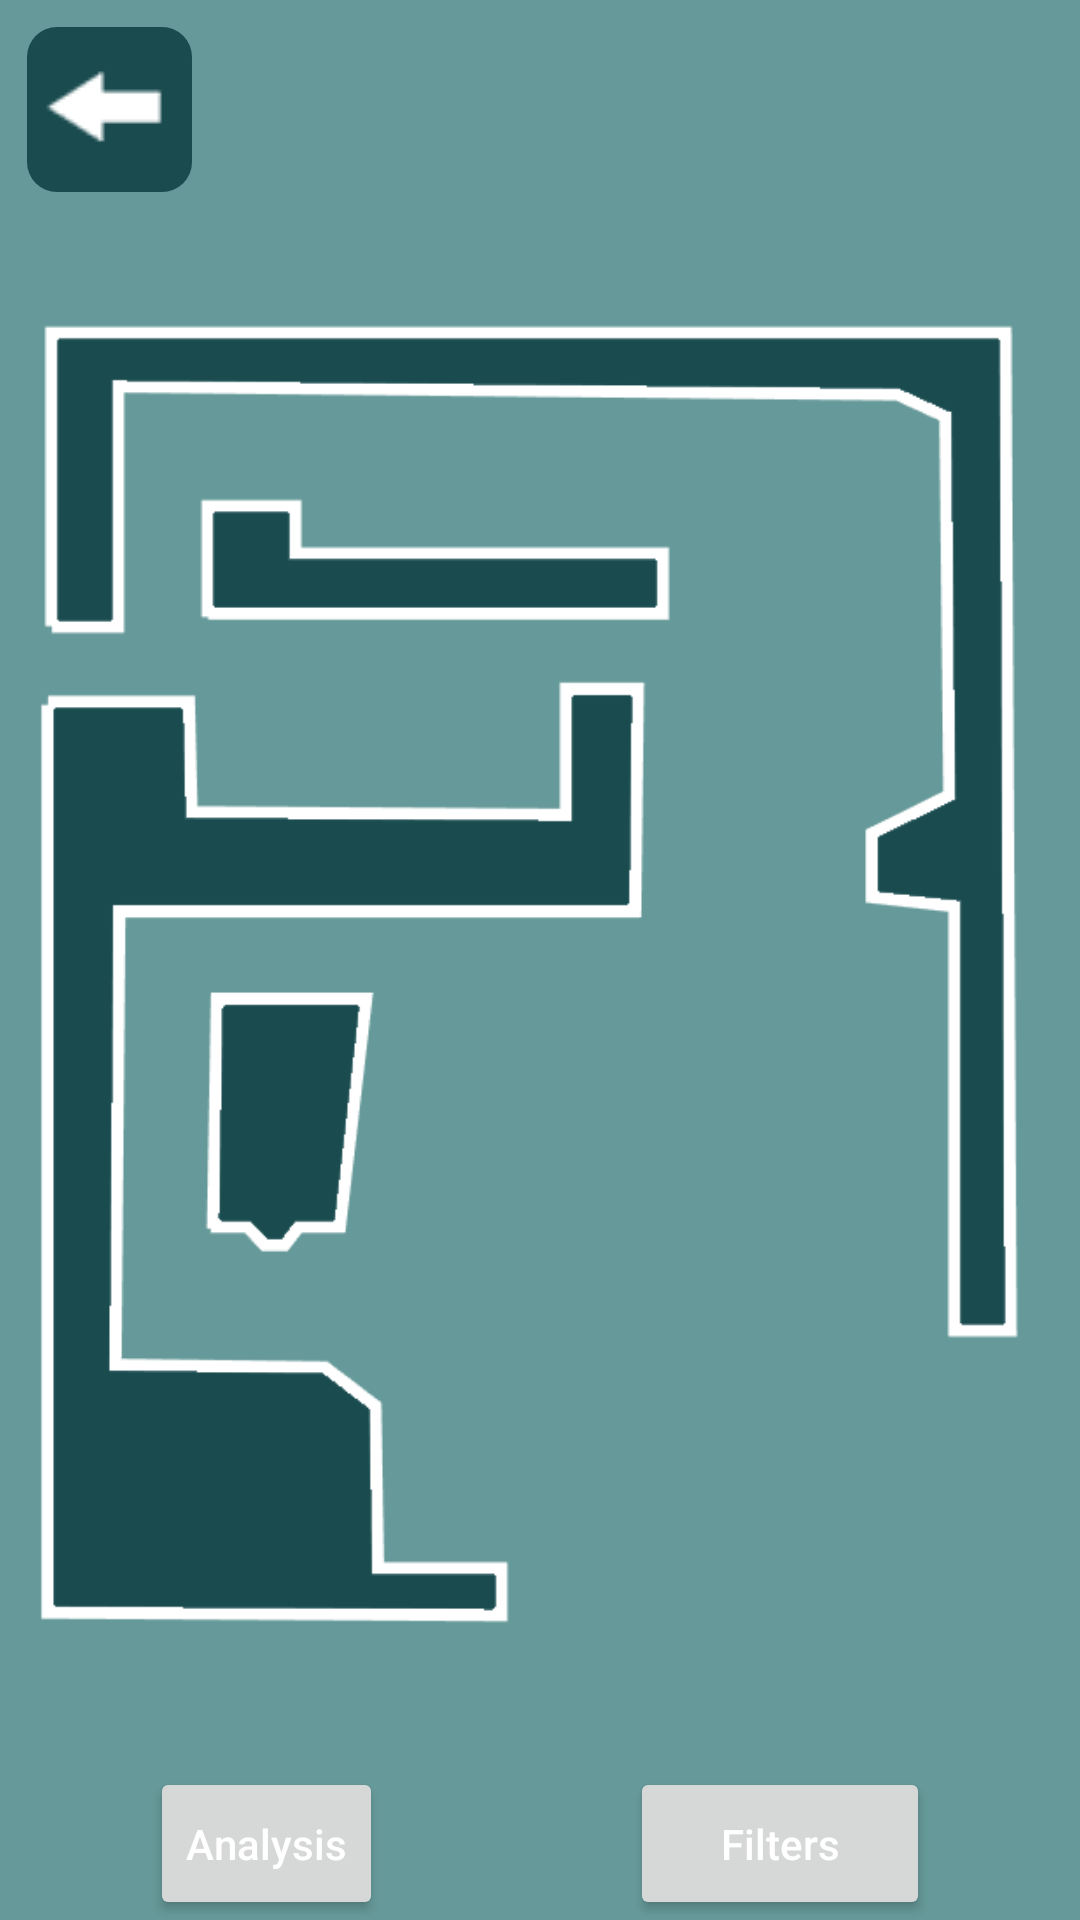

Locate icon controls on the screen. Image size 1080 x 1920, boxes as box(x1, y1, x2, y2).
go back: box(27, 27, 192, 192)
